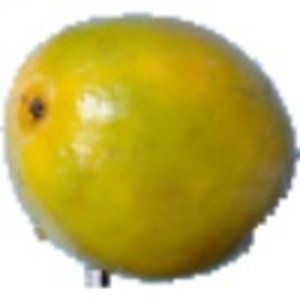maracujá: (1, 11, 300, 288)
